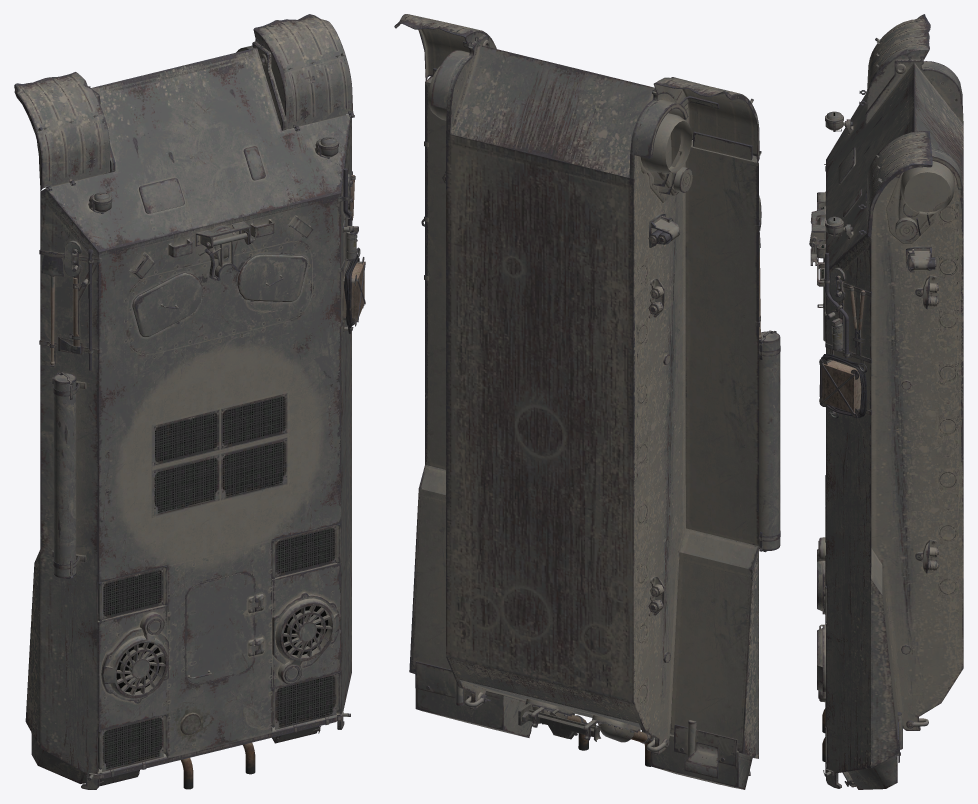
The model's file is Hull.glb.
The picture shows the model from 3 angles, left to right: view 1: azimuth 30°, elevation 25°; view 2: azimuth 150°, elevation 25°; view 3: azimuth 270°, elevation 25°; orthographic projection. The views are drawn at different scales.
Parts seen in each view (by area): view 1: set_0_group_0; view 2: set_0_group_0; view 3: set_0_group_0.
Boxes of the visible parts, x1=… form: set_0_group_0: x1=14, y1=14, x2=365, y2=789; set_0_group_0: x1=394, y1=14, x2=780, y2=789; set_0_group_0: x1=809, y1=14, x2=963, y2=789.
Size of the model in its own units: 3.35 by 6.98 by 1.47.
1 material, 1 textured.
